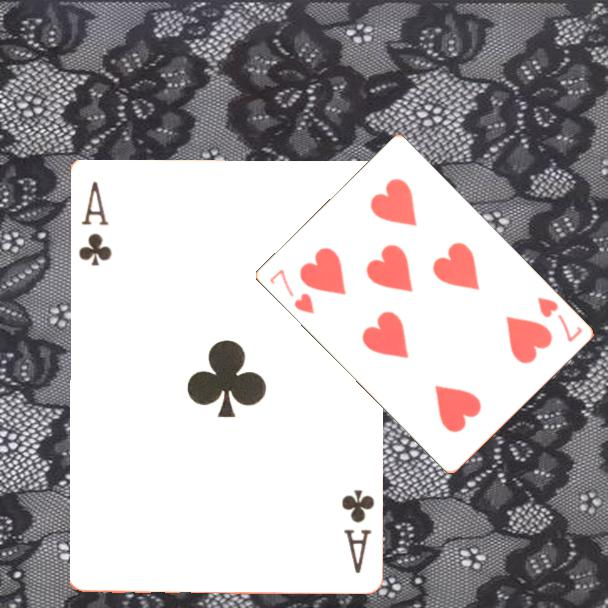c01: (74, 177, 114, 268), (337, 485, 377, 576)
h07: (533, 293, 585, 345), (266, 266, 317, 317)
